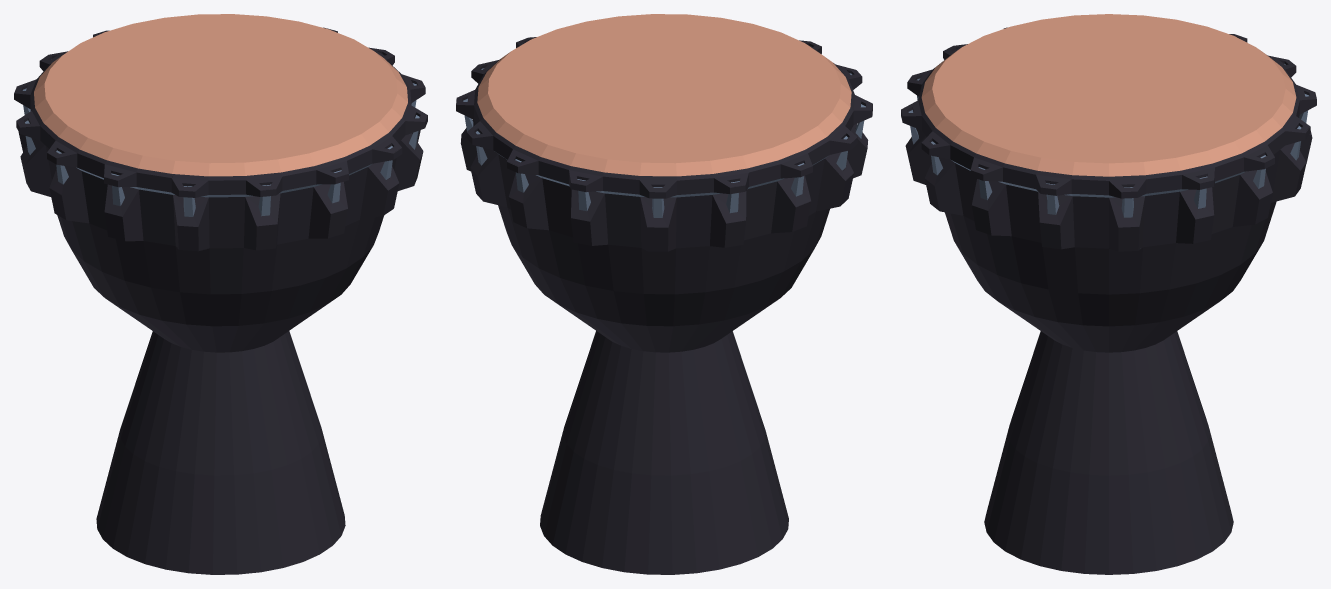
The picture shows the model from 3 angles, left to right: view 1: azimuth 30°, elevation 25°; view 2: azimuth 150°, elevation 25°; view 3: azimuth 270°, elevation 25°; orthographic projection.
Parts seen in each view (by area): view 1: Djembe.003; view 2: Djembe.003; view 3: Djembe.003.
Part boxes in pixels (x1,y1,x2,y2): Djembe.003: (14,14,427,574); Djembe.003: (456,14,872,574); Djembe.003: (901,14,1316,574).
Bounding box in the file's own units: 2.65 × 3.05 × 2.65.
Materials: 1 (1 with a texture image).
